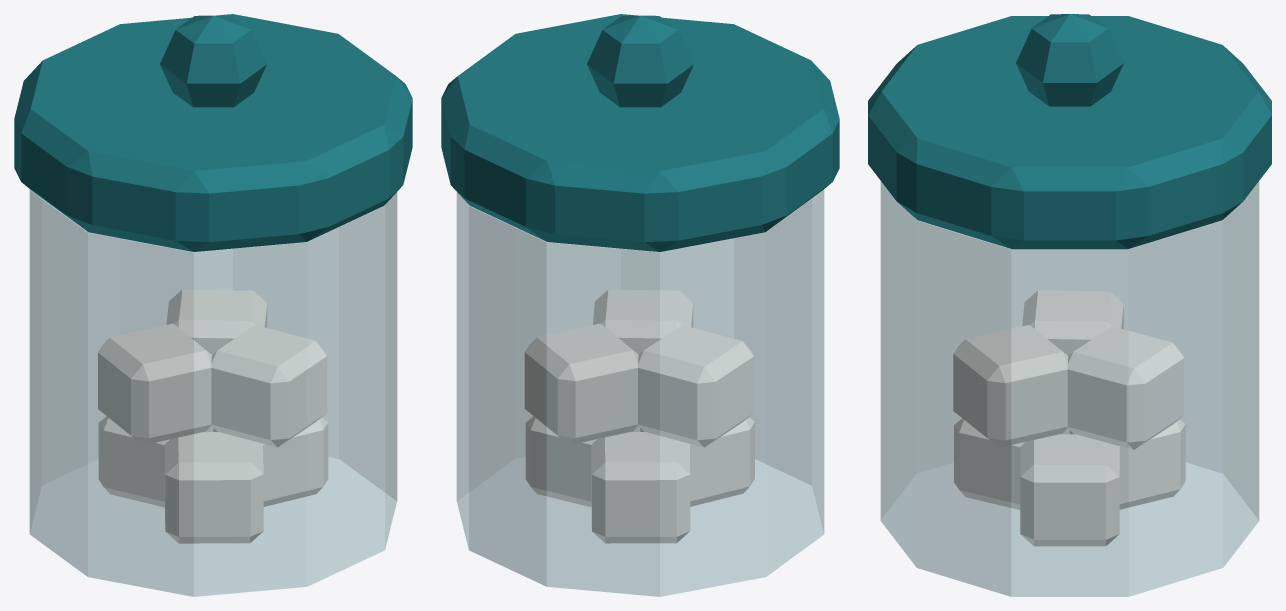
The model's file is sugar_jar.glb.
3 renders of one model, left to right at view 1: azimuth 30°, elevation 25°; view 2: azimuth 150°, elevation 25°; view 3: azimuth 270°, elevation 25°, orthographic.
Parts seen in each view (by area): view 1: sugar_jar; view 2: sugar_jar; view 3: sugar_jar.
Part boxes in pixels (bbox=[...]): sugar_jar: bbox=[14, 14, 412, 596]; sugar_jar: bbox=[441, 14, 839, 596]; sugar_jar: bbox=[868, 14, 1271, 596].
Size of the model in its own units: 0.0875 by 0.124 by 0.0895.
